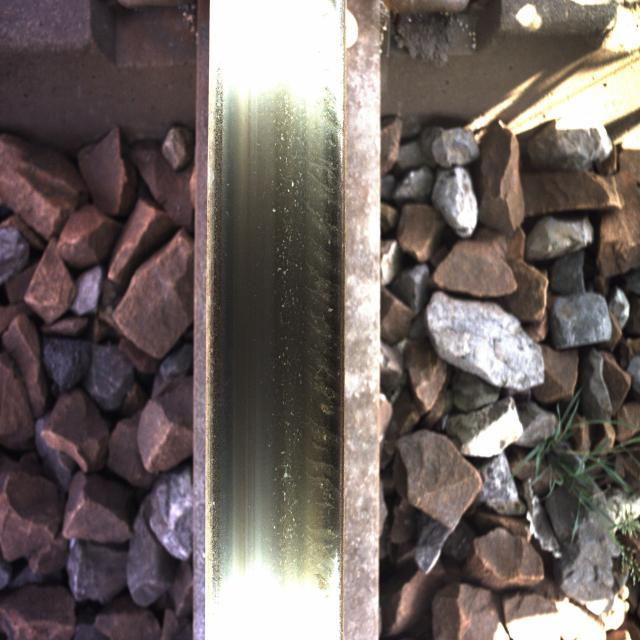normal: (238, 62, 342, 590)
